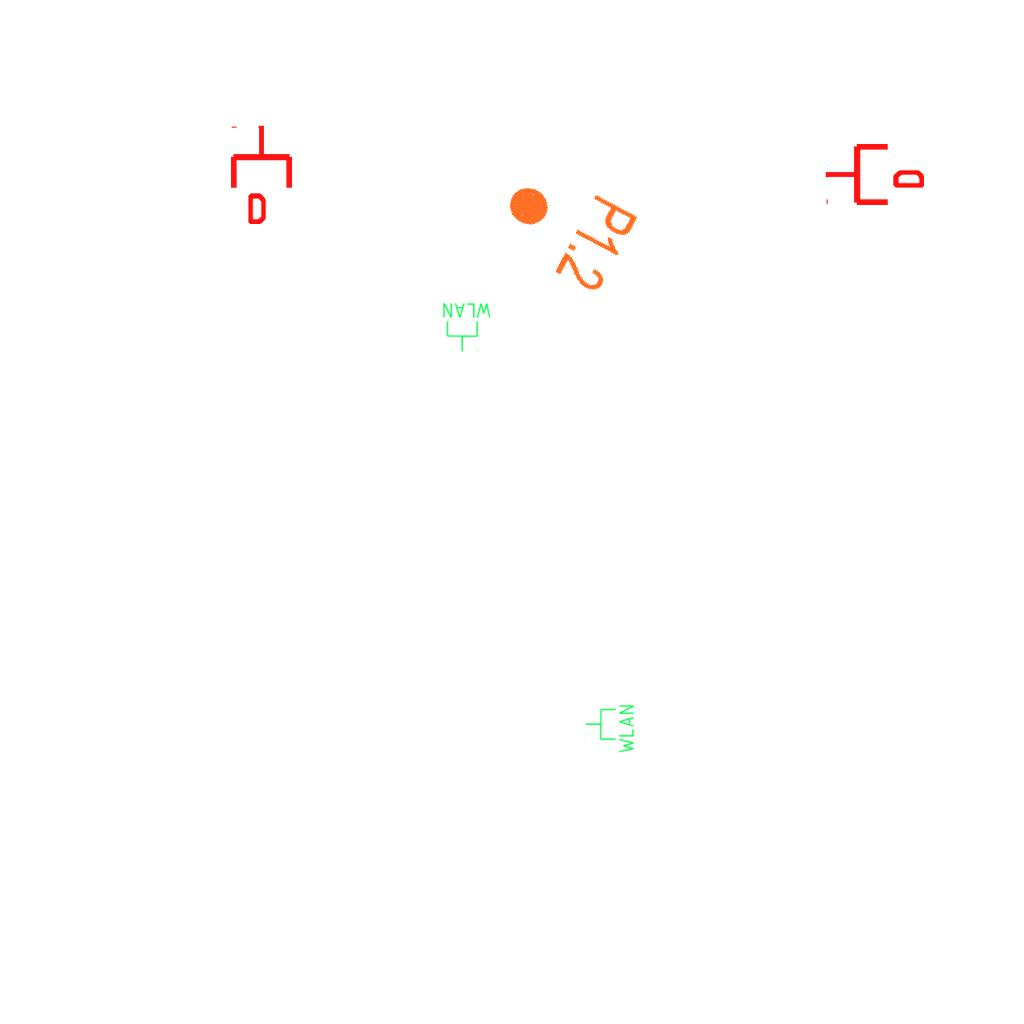Datenanschluss_einfach: (227, 124, 296, 224), (824, 140, 924, 209)
Downlight_LED_Einbauleuchten_Flur: (486, 155, 643, 299)
WLAN: (584, 703, 636, 755), (441, 301, 493, 353)
